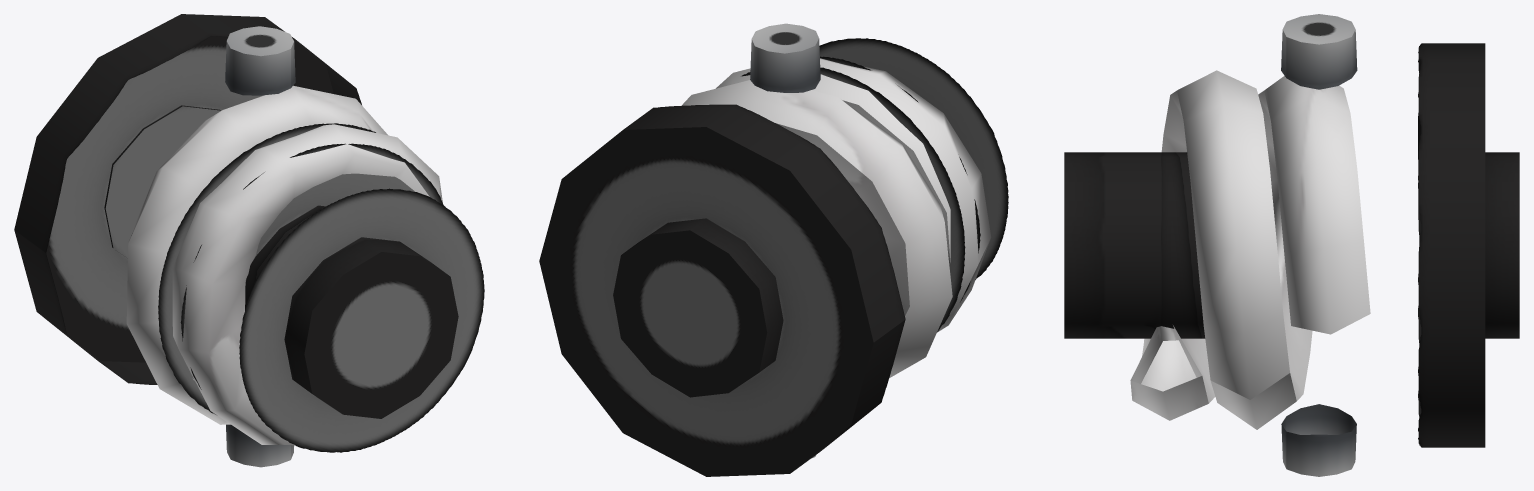
The model's file is obj_interactive_suspensionsport_03_on.fbx.
The picture shows the model from 3 angles, left to right: view 1: azimuth 30°, elevation 25°; view 2: azimuth 150°, elevation 25°; view 3: azimuth 270°, elevation 25°; orthographic projection. The views are drawn at different scales.
Visible parts, largest first — view 1: obj_interactive_suspensionsport_03_on; view 2: obj_interactive_suspensionsport_03_on; view 3: obj_interactive_suspensionsport_03_on.
Boxes of the visible parts, x1,y1,x2,y2 form: obj_interactive_suspensionsport_03_on: (14,14,484,467); obj_interactive_suspensionsport_03_on: (539,23,1008,476); obj_interactive_suspensionsport_03_on: (1064,14,1519,476).
Bounding box in the file's own units: 1.09 × 1.29 × 1.23.
